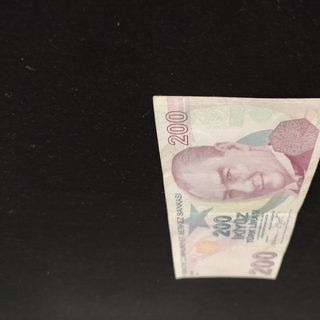200TLFront: (151, 94, 320, 280)
